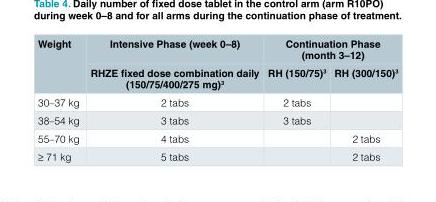table: (37, 36, 397, 162)
table column: (84, 36, 262, 162), (329, 36, 397, 162), (262, 36, 329, 162), (37, 36, 84, 162)
table column header: (37, 36, 397, 92)
table row: (37, 63, 397, 92), (37, 36, 397, 63), (37, 92, 397, 110), (37, 110, 397, 128), (37, 128, 397, 146), (37, 146, 397, 162)
table spanning cell: (84, 36, 262, 92), (262, 36, 397, 63), (37, 36, 84, 92)
